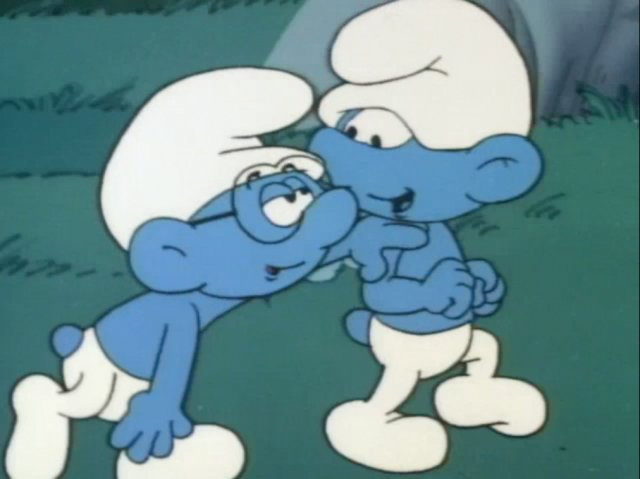smurf: (4, 63, 350, 478), (314, 2, 551, 473)
